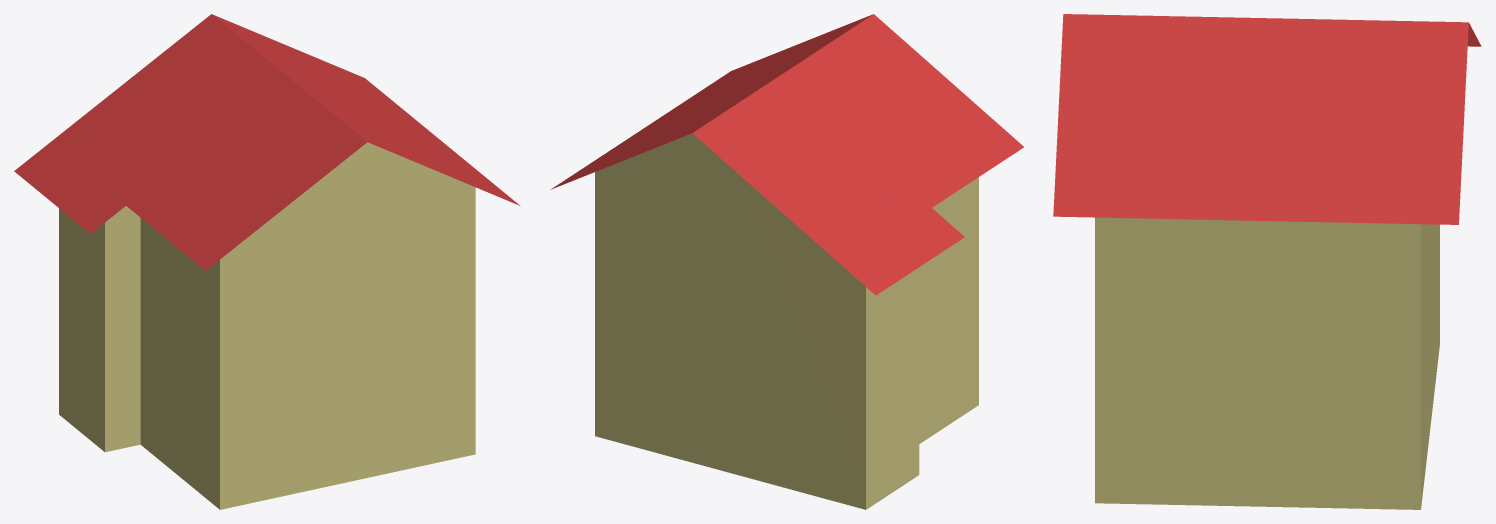
3 renders of one model, left to right at view 1: azimuth 30°, elevation 25°; view 2: azimuth 150°, elevation 25°; view 3: azimuth 270°, elevation 25°, orthographic. The views are drawn at different scales.
Bounding box in the file's own units: 12 × 10.73 × 11.57.
